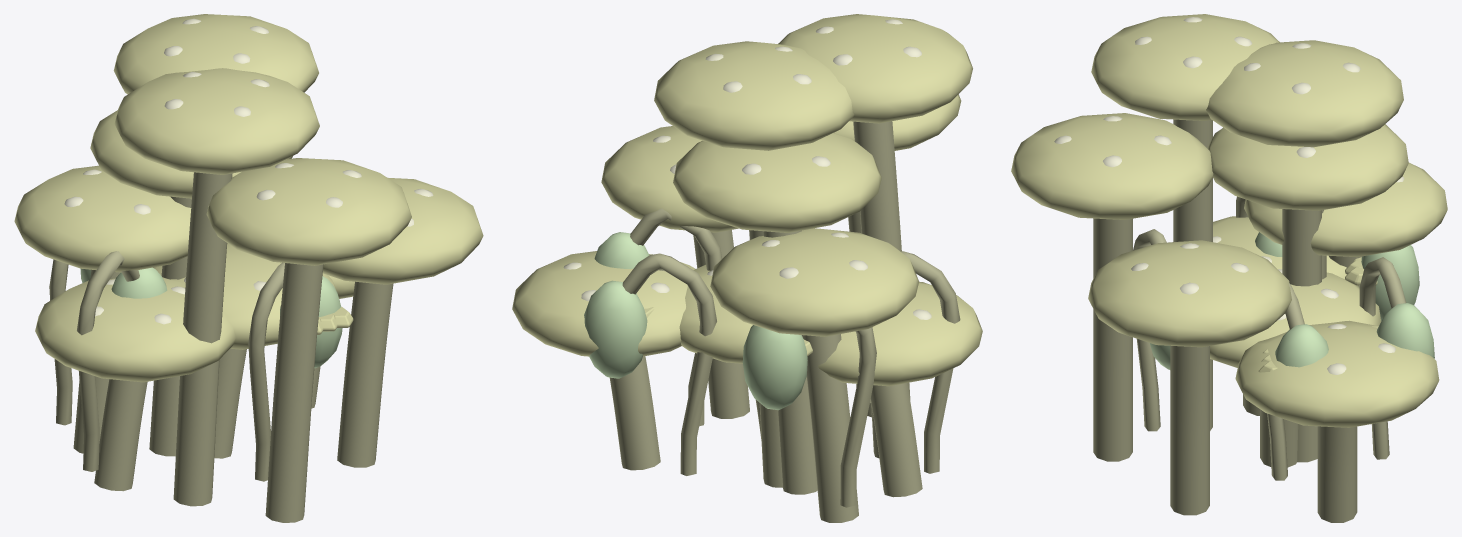
Rendered from bio_spore_fungus_18_far.glb.
3 renders of one model, left to right at view 1: azimuth 30°, elevation 25°; view 2: azimuth 150°, elevation 25°; view 3: azimuth 270°, elevation 25°, orthographic.
Parts seen in each view (by area): view 1: Thick umbrella cap.007, Thick umbrella cap.002, Thick umbrella cap.001, Thick umbrella cap.004, Curved stipe.007, Thick umbrella cap.003, Curved stipe.002, Thick umbrella cap.005, Curved stipe.005, Curved stipe.004, Thick umbrella cap, Thick umbrella cap.006 (+9 smaller); view 2: Thick umbrella cap.001, Thick umbrella cap.003, Thick umbrella cap.006, Thick umbrella cap.007, Thick umbrella cap.008, Thick umbrella cap.004, Thick umbrella cap.005, Curved stipe.001, Pendant spore capsule.003, Arched fruit stem.003, Curved stipe.004, Pendant spore capsule.001 (+11 smaller); view 3: Thick umbrella cap.005, Thick umbrella cap.002, Thick umbrella cap.003, Thick umbrella cap.008, Thick umbrella cap.007, Thick umbrella cap.006, Thick umbrella cap.001, Curved stipe.002, Curved stipe.005, Thick umbrella cap, Curved stipe.008, Curved stipe.003 (+13 smaller).
Boxes of the visible parts, box(x1,y1,x2,y2) form: Thick umbrella cap.007: box(114, 68, 319, 174); Thick umbrella cap.002: box(206, 158, 411, 265); Thick umbrella cap.001: box(14, 165, 191, 272); Thick umbrella cap.004: box(35, 277, 235, 382); Curved stipe.007: box(173, 172, 232, 506); Thick umbrella cap.003: box(113, 14, 318, 94); Curved stipe.002: box(265, 263, 323, 522); Thick umbrella cap.005: box(322, 178, 483, 284); Curved stipe.005: box(337, 281, 393, 467); Curved stipe.004: box(94, 379, 147, 491); Thick umbrella cap: box(153, 243, 335, 349); Thick umbrella cap.006: box(90, 110, 292, 198); Thick umbrella cap.001: box(710, 228, 918, 336); Thick umbrella cap.003: box(654, 41, 854, 150); Thick umbrella cap.006: box(673, 133, 881, 232); Thick umbrella cap.007: box(778, 14, 972, 123); Thick umbrella cap.008: box(512, 251, 695, 356); Thick umbrella cap.004: box(818, 281, 982, 386); Thick umbrella cap.005: box(601, 126, 738, 232); Curved stipe.001: box(801, 334, 858, 522); Pendant spore capsule.003: box(584, 280, 647, 378); Arched fruit stem.003: box(622, 253, 716, 475); Curved stipe.004: box(870, 383, 922, 497); Pendant spore capsule.001: box(742, 325, 807, 410); Thick umbrella cap.005: box(1088, 240, 1291, 347); Thick umbrella cap.002: box(1011, 113, 1213, 219); Thick umbrella cap.003: box(1206, 40, 1403, 147); Thick umbrella cap.008: box(1235, 320, 1439, 427); Thick umbrella cap.007: box(1091, 14, 1279, 120); Thick umbrella cap.006: box(1207, 124, 1408, 210); Thick umbrella cap.001: box(1244, 162, 1447, 257); Curved stipe.002: box(1093, 218, 1132, 461); Curved stipe.005: box(1170, 345, 1209, 515); Thick umbrella cap: box(1210, 272, 1381, 367); Curved stipe.008: box(1317, 426, 1357, 522); Curved stipe.003: box(1282, 209, 1321, 462).
Bounding box in the file's own units: 1.97 × 1.92 × 1.88.
